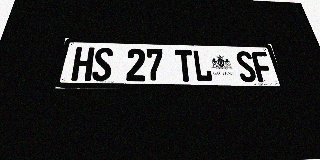2: (126, 48, 145, 81)
7: (146, 49, 164, 81)
F: (250, 51, 275, 82)
H: (71, 47, 95, 81)
L: (192, 50, 213, 82)
S: (91, 47, 113, 81), (234, 51, 258, 82)
T: (175, 49, 195, 82)
